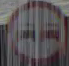No overtake: (6, 5, 63, 49)
